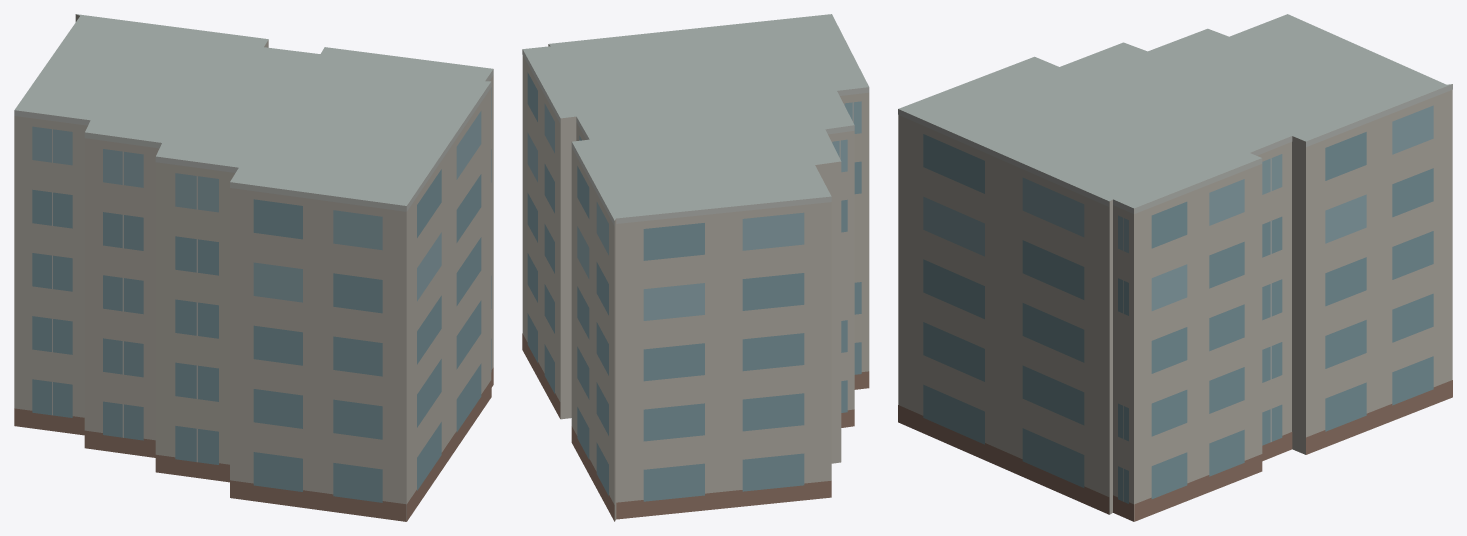
The model's file is survey-upis-32816170.glb.
3 renders of one model, left to right at view 1: azimuth 30°, elevation 25°; view 2: azimuth 150°, elevation 25°; view 3: azimuth 270°, elevation 25°, orthographic. The views are drawn at different scales.
Parts seen in each view (by area): view 1: survey-upis-32816170.tmp; view 2: survey-upis-32816170.tmp; view 3: survey-upis-32816170.tmp.
Part boxes in pixels (x1,y1,x2,y2): survey-upis-32816170.tmp: (14,14,493,521); survey-upis-32816170.tmp: (522,14,869,521); survey-upis-32816170.tmp: (898,14,1452,521).
Bounding box in the file's own units: 17.71 × 13.3 × 21.34.
